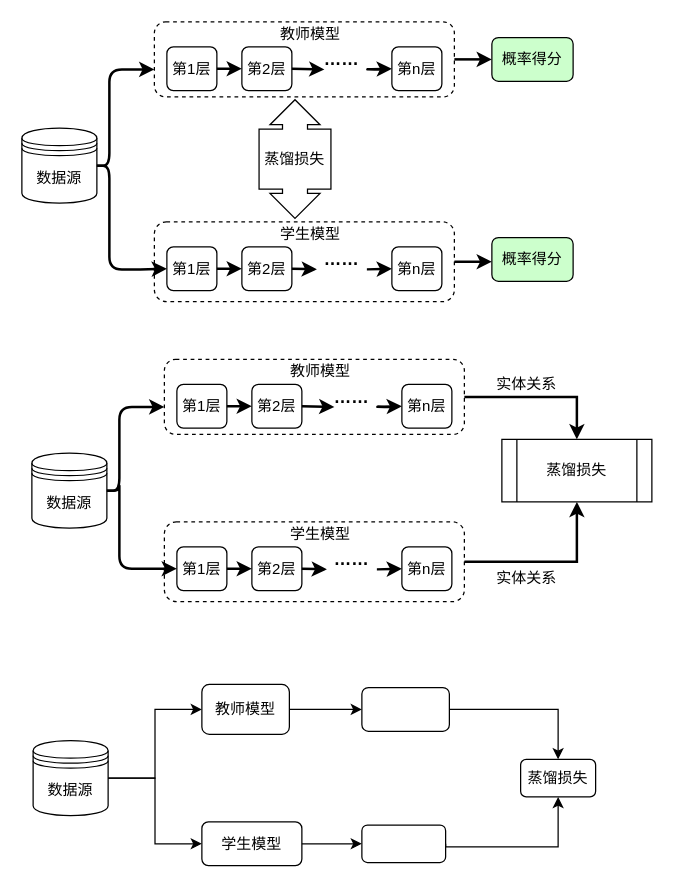
This 674x888 diagram has some shape labels left out. Here are the shapes that lost their labels. From the top down, the centre of each, then its label:
At (405,708): "软标签".
At (403,843): "硬标签".
